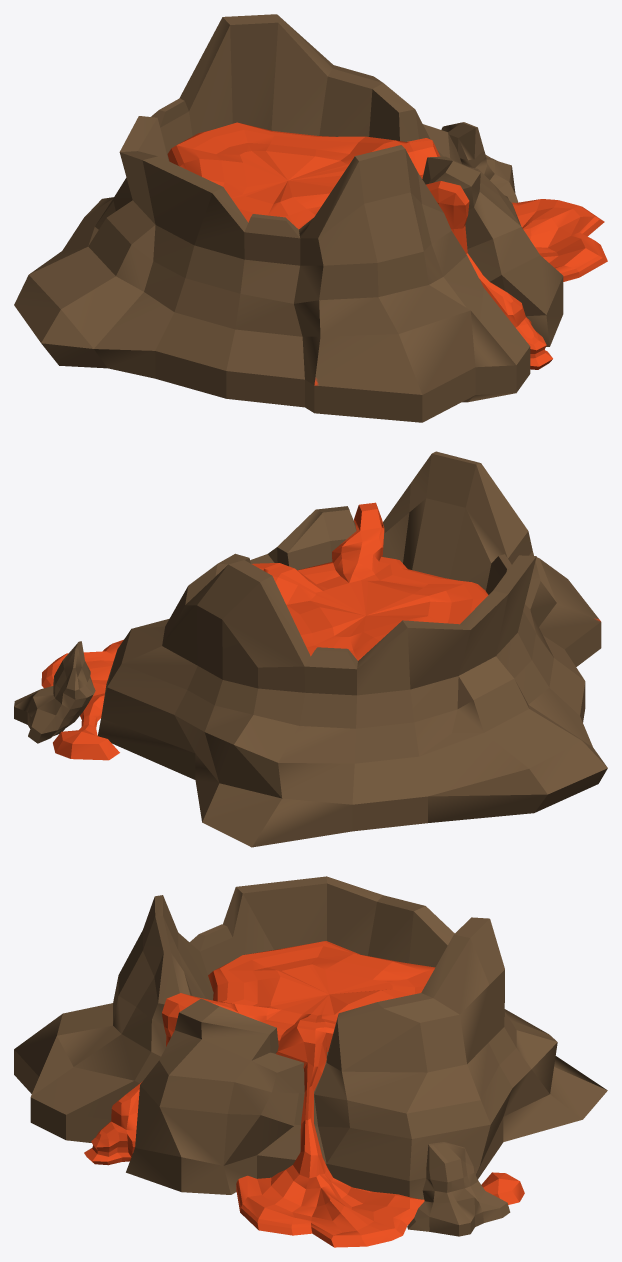
File: magma stone-basic 1.FBX
3 renders of one model, top to bottom at view 1: azimuth 30°, elevation 25°; view 2: azimuth 150°, elevation 25°; view 3: azimuth 270°, elevation 25°, orthographic. The views are drawn at different scales.
Visible parts, largest first — view 1: polySurface4; view 2: polySurface4; view 3: polySurface4.
Part boxes in pixels (x1,y1,x2,y2): polySurface4: [14, 14, 607, 422]; polySurface4: [14, 451, 607, 847]; polySurface4: [14, 876, 607, 1247].
Bounding box in the file's own units: 9.17 × 3.41 × 9.07.
